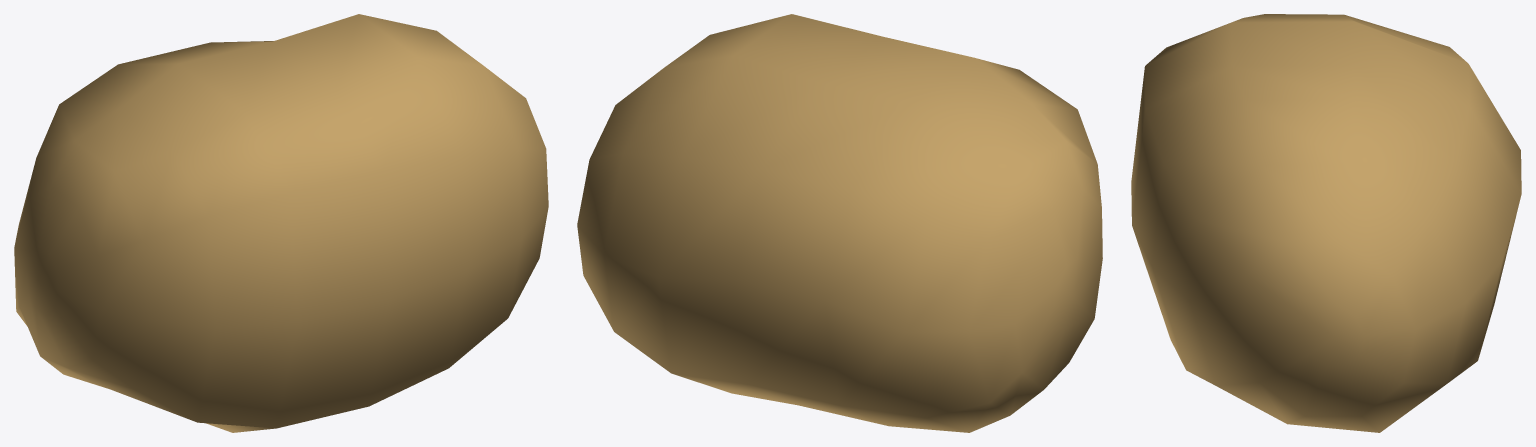
The model's file is Patate.fbx.
The picture shows the model from 3 angles, left to right: view 1: azimuth 30°, elevation 25°; view 2: azimuth 150°, elevation 25°; view 3: azimuth 270°, elevation 25°; orthographic projection. The views are drawn at different scales.
Visible parts, largest first — view 1: StandLegumes2:polySurface1232; view 2: StandLegumes2:polySurface1232; view 3: StandLegumes2:polySurface1232.
Part boxes in pixels (x1,y1,x2,y2): StandLegumes2:polySurface1232: (14, 14, 548, 432); StandLegumes2:polySurface1232: (577, 14, 1102, 432); StandLegumes2:polySurface1232: (1131, 14, 1521, 432).
Size of the model in its own units: 0.1596 by 0.1056 by 0.1189.
